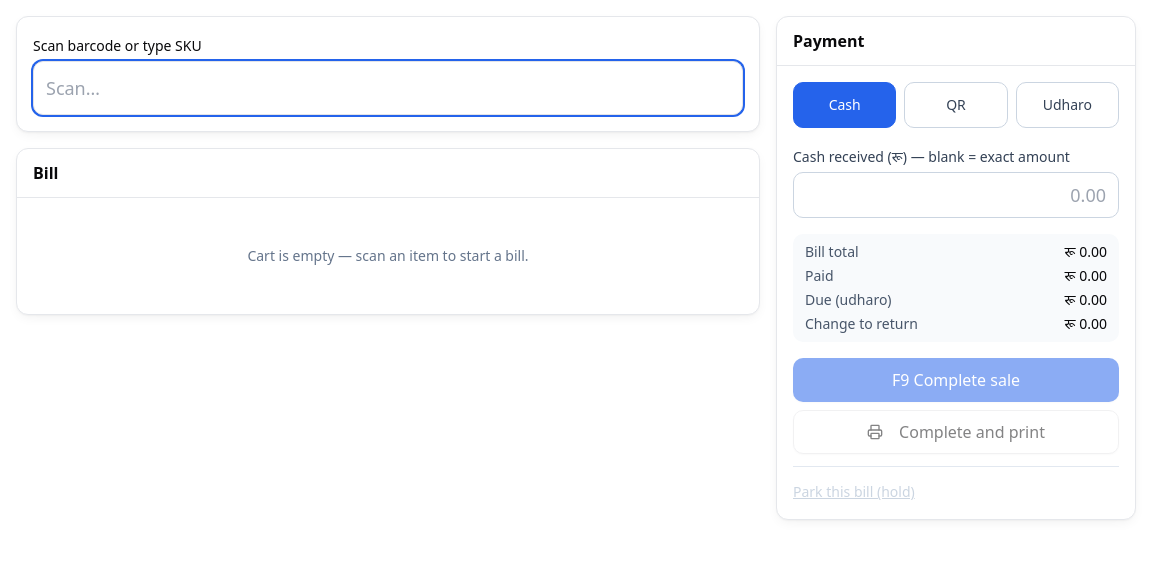
BillingPage counter payment › will not park a bill whose discount is wrong
The image size is (1153, 586).
Type "8901234567890" into the field labelled "Scan barcode or type SKU".
click(388, 88); type("8901234567890")  # box [33, 61, 743, 115]
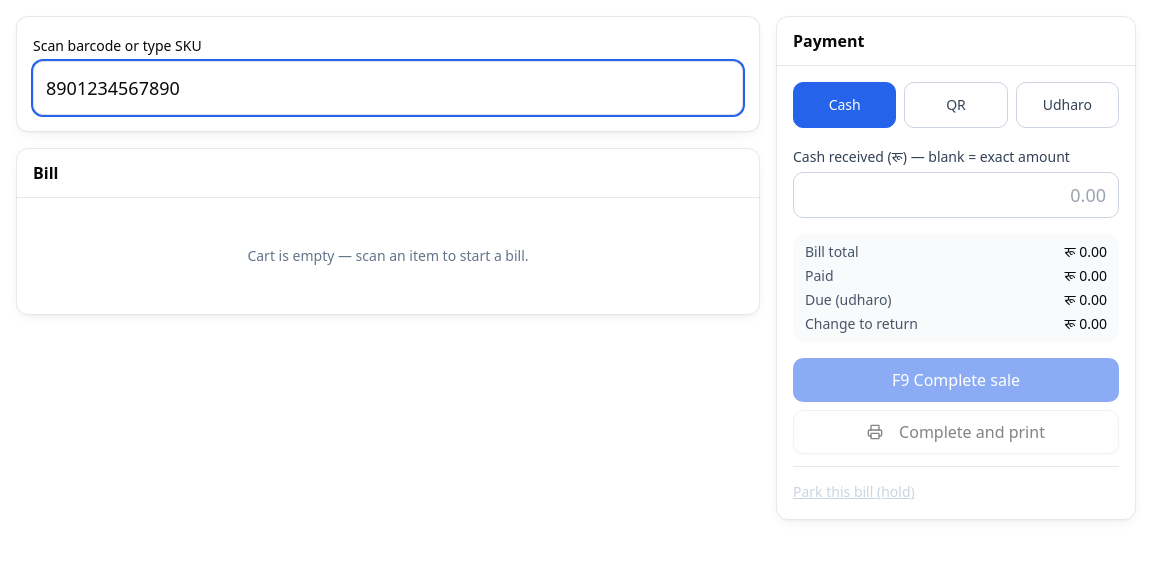
Submit the form labelled "Scan barcode or type SKU", box [33, 33, 743, 115]
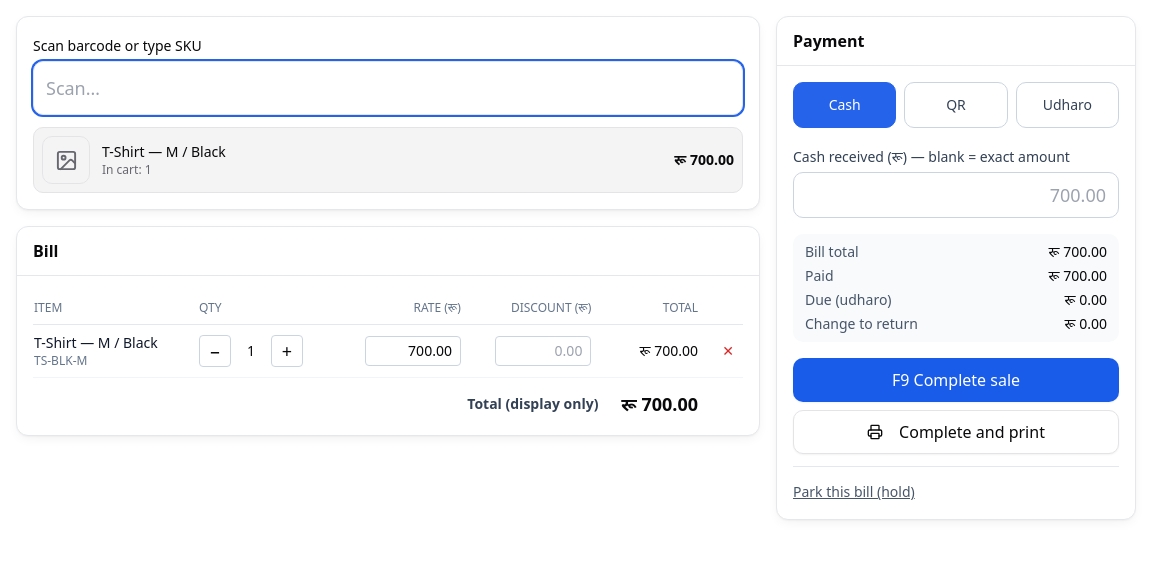
Type "99999" into the field named "discount for".
click(543, 351); type("99999")  # box [495, 336, 591, 366]
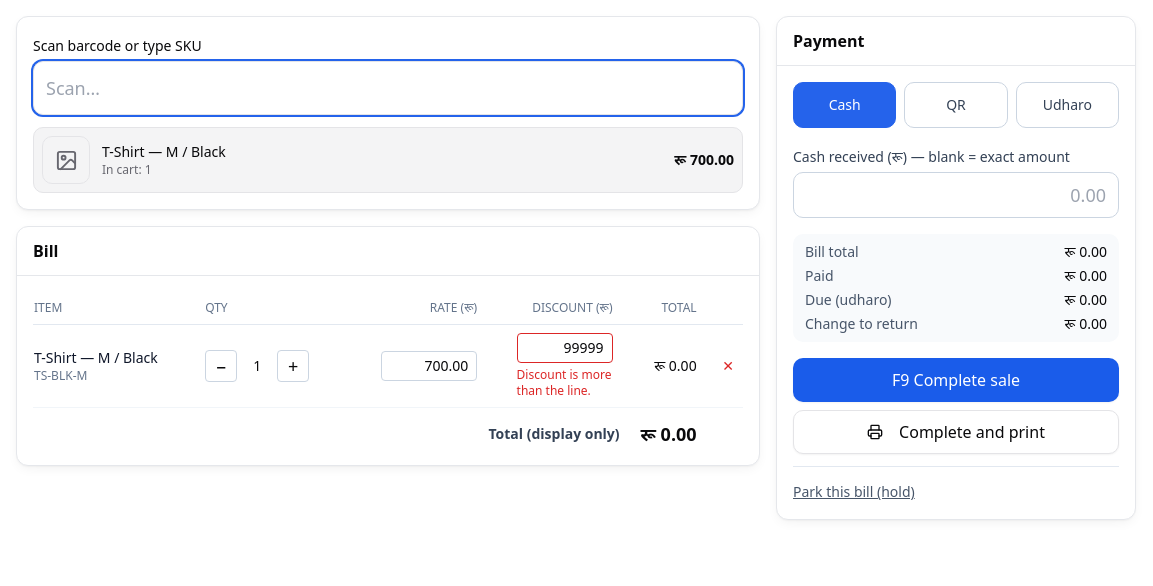
Click the button "Park this bill (hold)".
click(854, 492)  # box [793, 482, 915, 502]
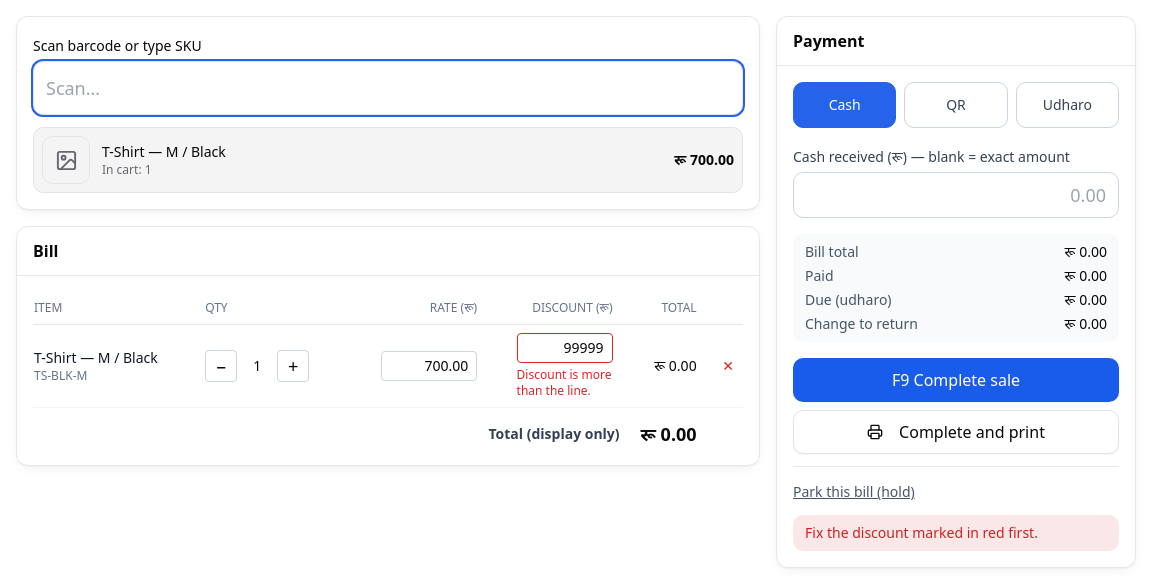
Result: the text "Fix the discount marked in red first." is shown at [793, 515, 1119, 551]
